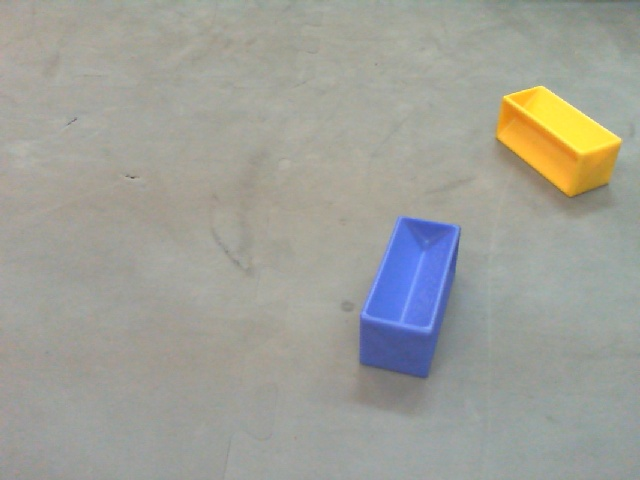BlueSample: (355, 215, 467, 383)
YellowSample: (494, 82, 627, 200)
